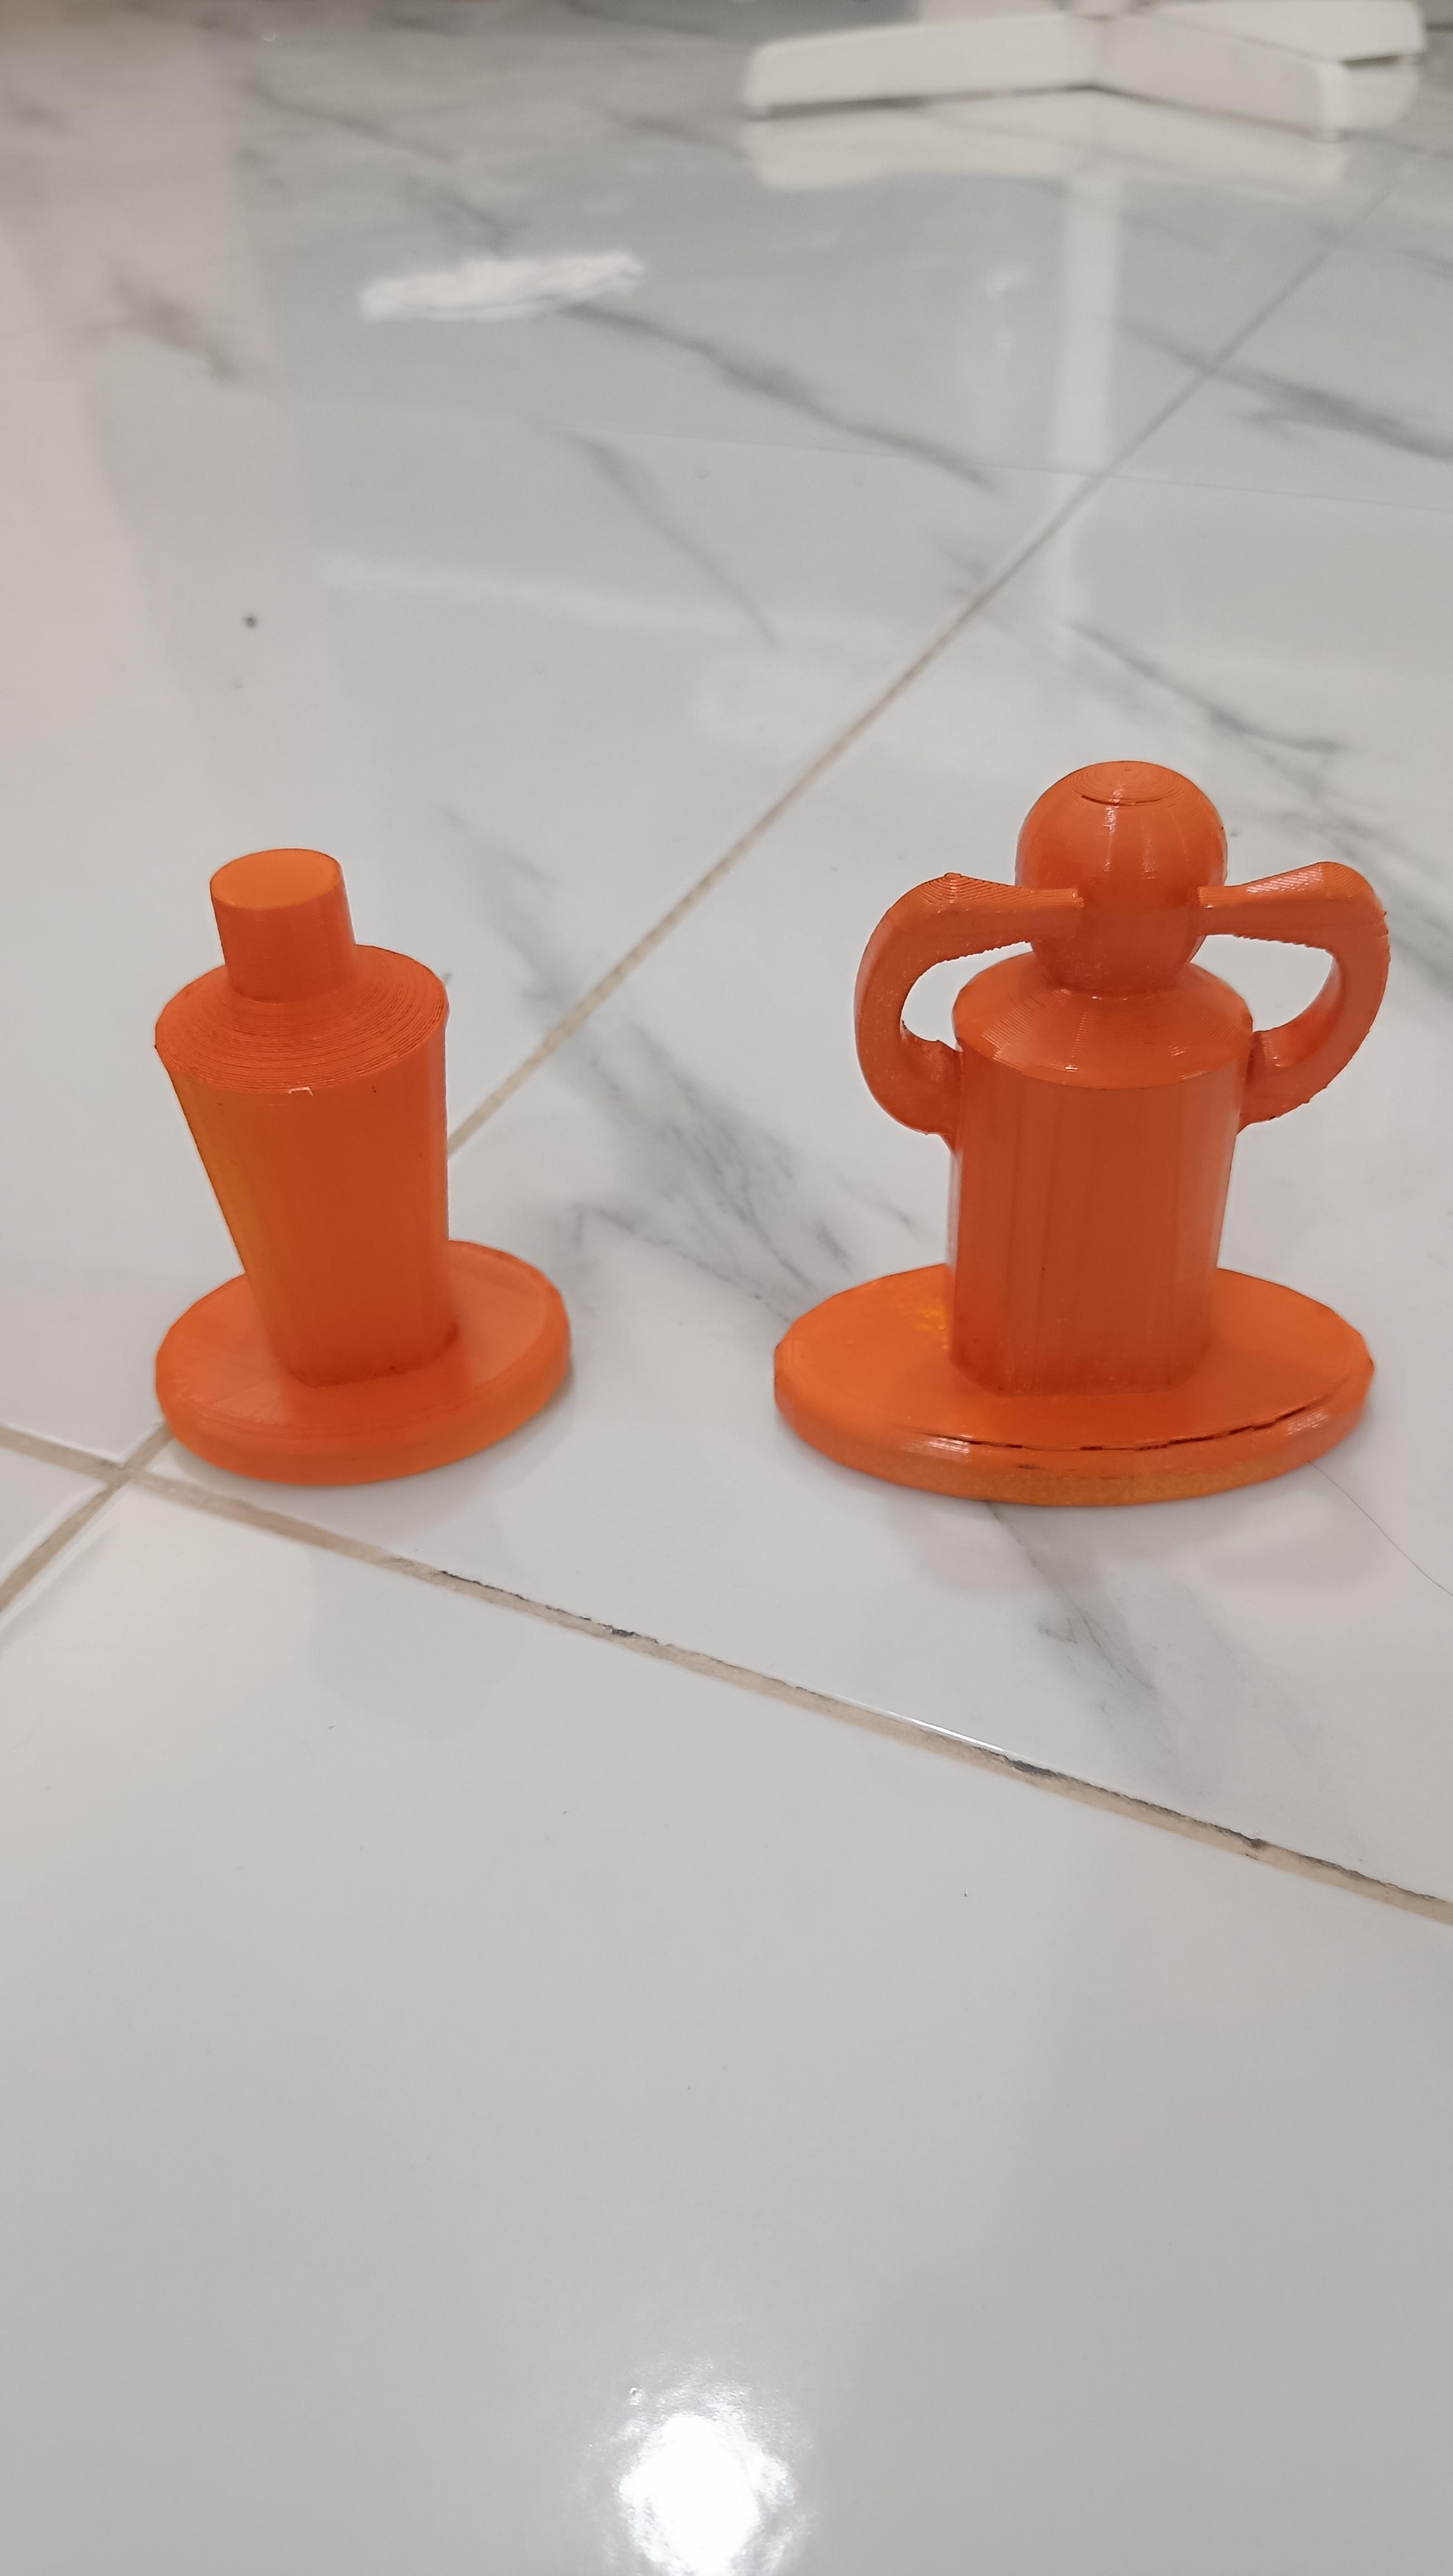dummy: (111, 799, 596, 1531)
real_person: (752, 713, 1446, 1526)
